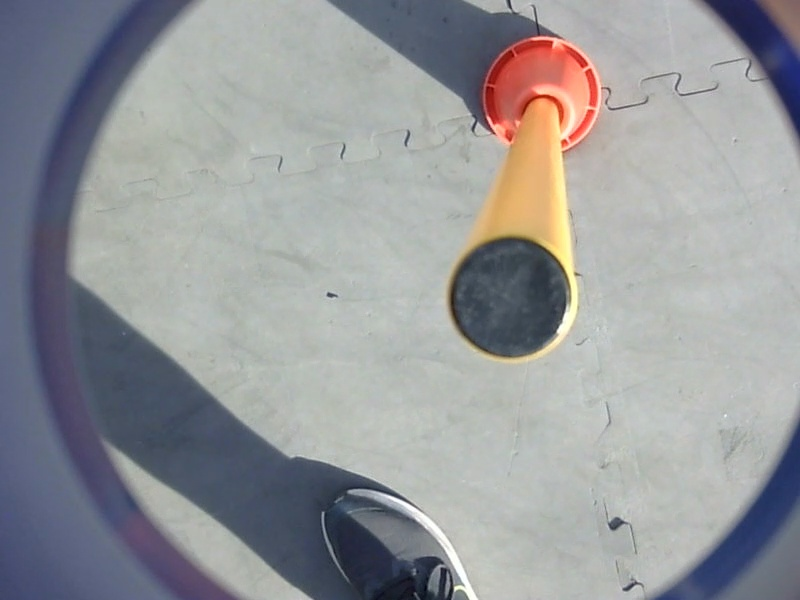tip: (441, 229, 582, 371)
